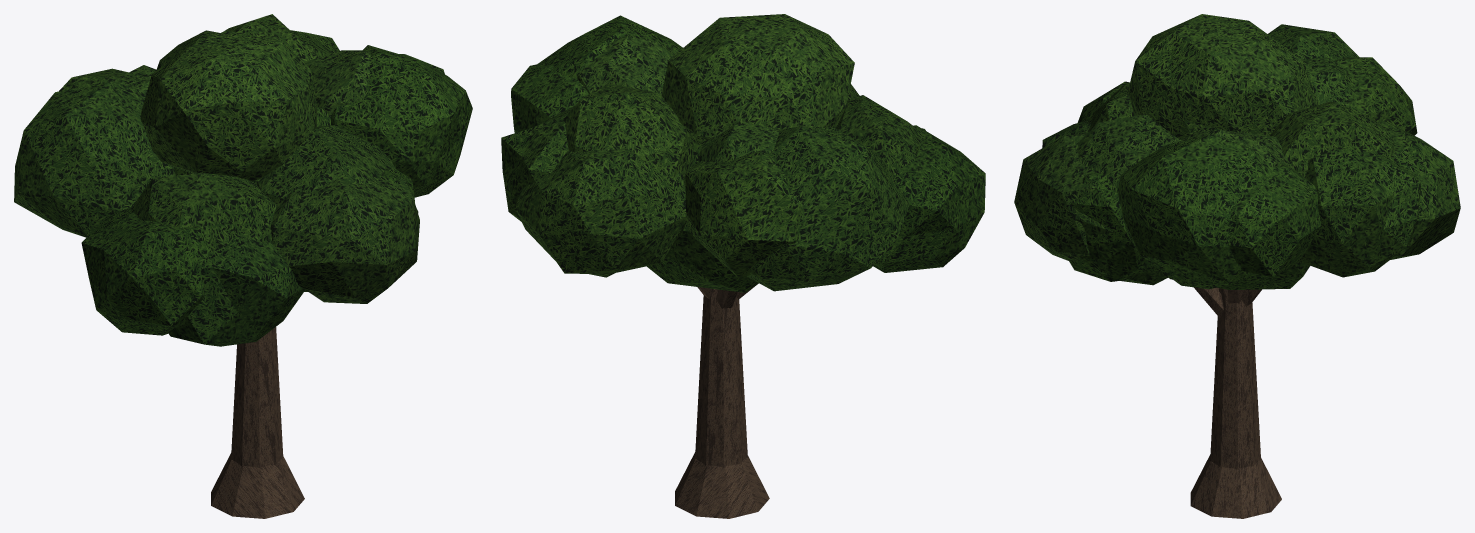
The model's file is tree_oak_b.glb.
The picture shows the model from 3 angles, left to right: view 1: azimuth 30°, elevation 25°; view 2: azimuth 150°, elevation 25°; view 3: azimuth 270°, elevation 25°; orthographic projection. The views are drawn at different scales.
Parts seen in each view (by area): view 1: tree_oak_b; view 2: tree_oak_b; view 3: tree_oak_b.
Part boxes in pixels (x1,y1,x2,y2): tree_oak_b: (14, 14, 472, 518); tree_oak_b: (501, 14, 985, 518); tree_oak_b: (1014, 14, 1460, 518).
Bounding box in the file's own units: 5.94 × 6.54 × 5.8.
Materials: 2 (2 with a texture image).
